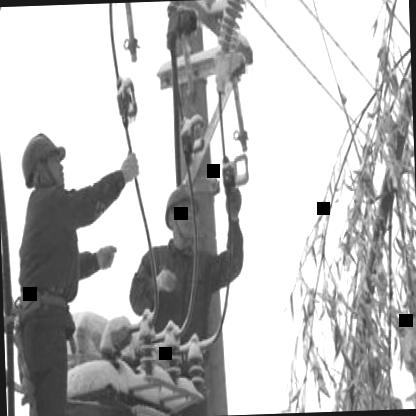helmet: (20, 122, 69, 195), (160, 181, 200, 244)
